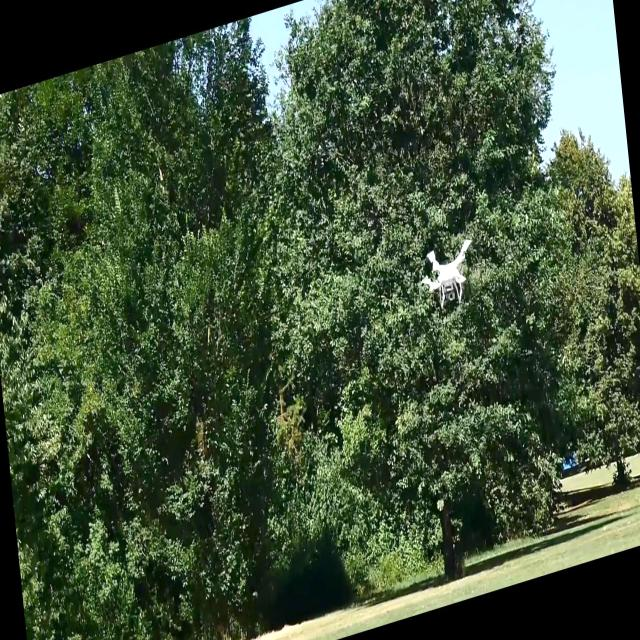drone: (417, 234, 476, 320)
